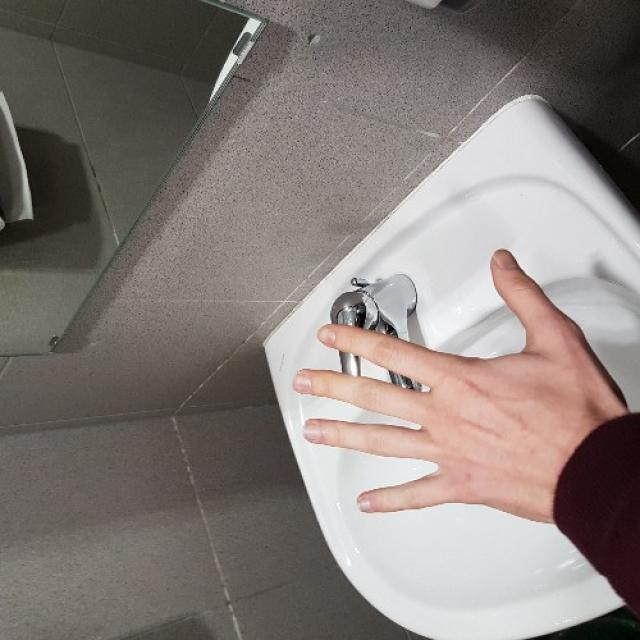paper: (296, 249, 563, 523)
